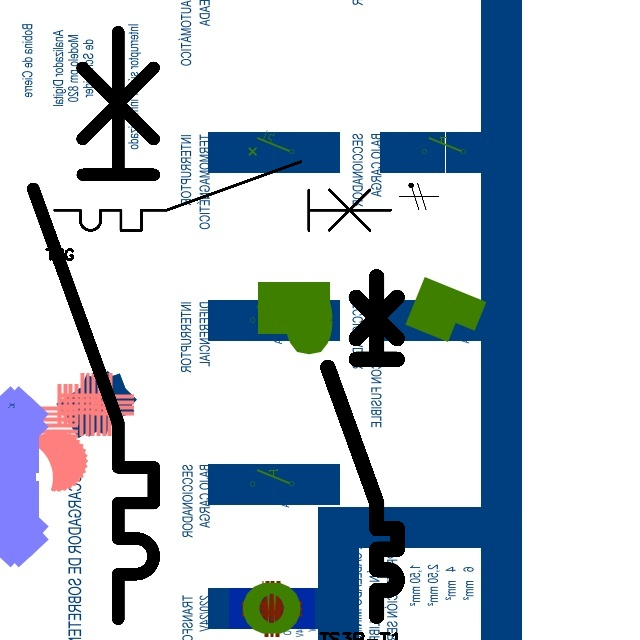interruptor_termomagnetico: (18, 17, 169, 634), (319, 268, 406, 625), (46, 153, 399, 239)
